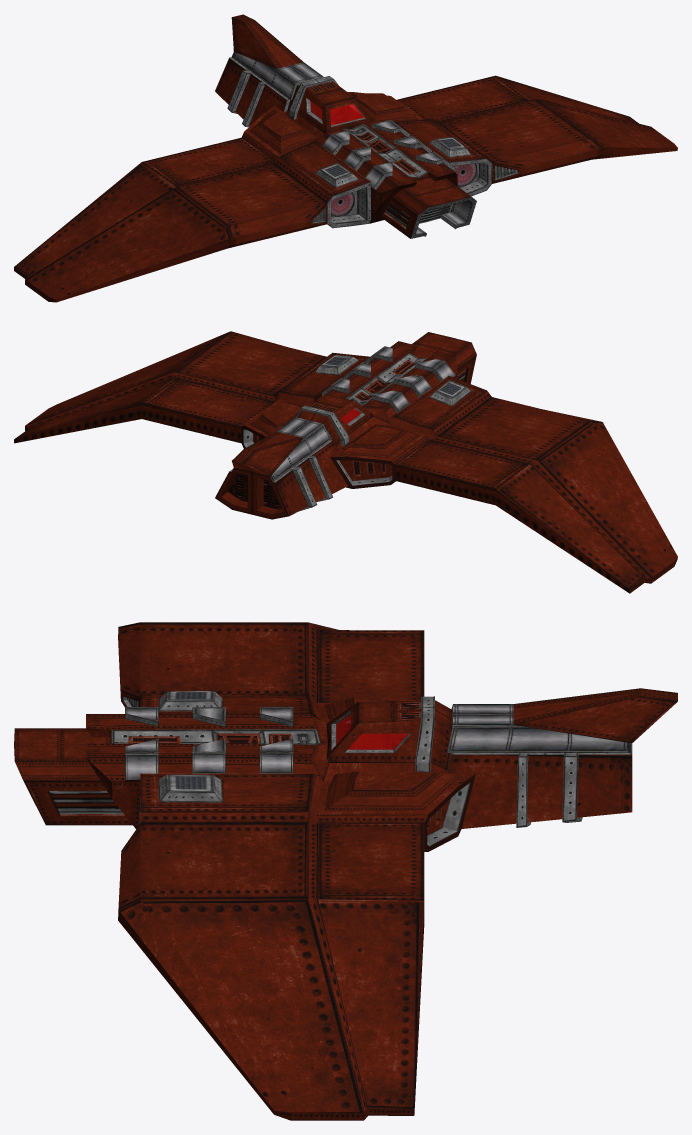
File: thunderbolt .obj
3 views of the same model, one above another, from view 1: azimuth 30°, elevation 25°; view 2: azimuth 150°, elevation 25°; view 3: azimuth 270°, elevation 25° (orthographic). The views are drawn at different scales.
Visible parts, largest first — view 1: Thunderbolt_1b; view 2: Thunderbolt_1b; view 3: Thunderbolt_1b.
Boxes of the visible parts, bbox=[...] form: Thunderbolt_1b: bbox=[14, 14, 677, 302]; Thunderbolt_1b: bbox=[14, 331, 677, 593]; Thunderbolt_1b: bbox=[14, 622, 677, 1120].
Bounding box in the file's own units: 4.6 × 0.8546 × 2.71.
5 materials, 4 textured.
